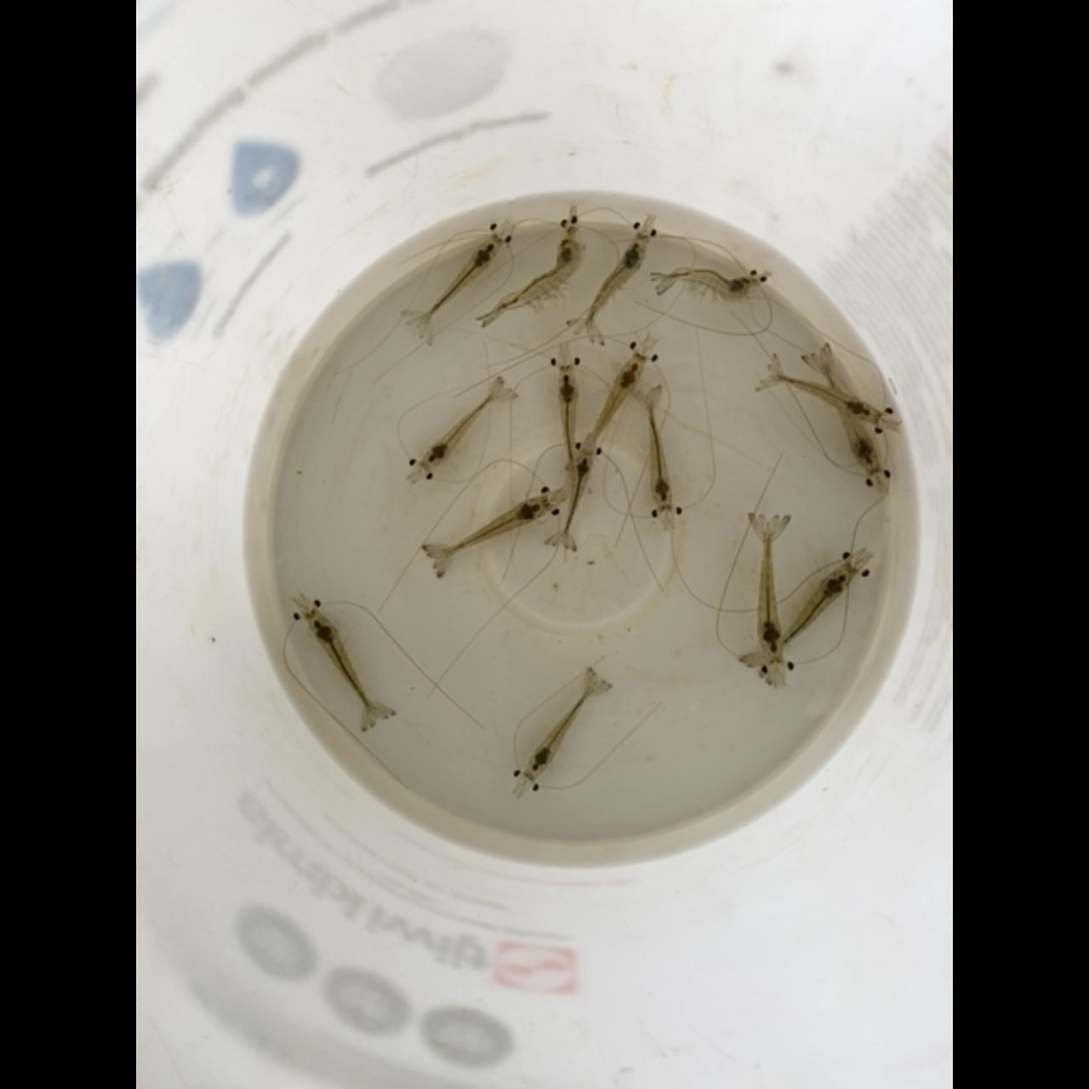round_base: (271, 222, 892, 844)
top_shrimp: (759, 565, 855, 667), (487, 233, 580, 320), (307, 611, 378, 717), (419, 235, 501, 326), (820, 355, 881, 473), (526, 681, 596, 778), (437, 497, 549, 557), (422, 388, 502, 469), (586, 236, 648, 332), (586, 356, 645, 448), (770, 373, 880, 421), (757, 522, 784, 662), (562, 453, 593, 543), (647, 394, 671, 509), (663, 269, 755, 298), (559, 367, 579, 470)
